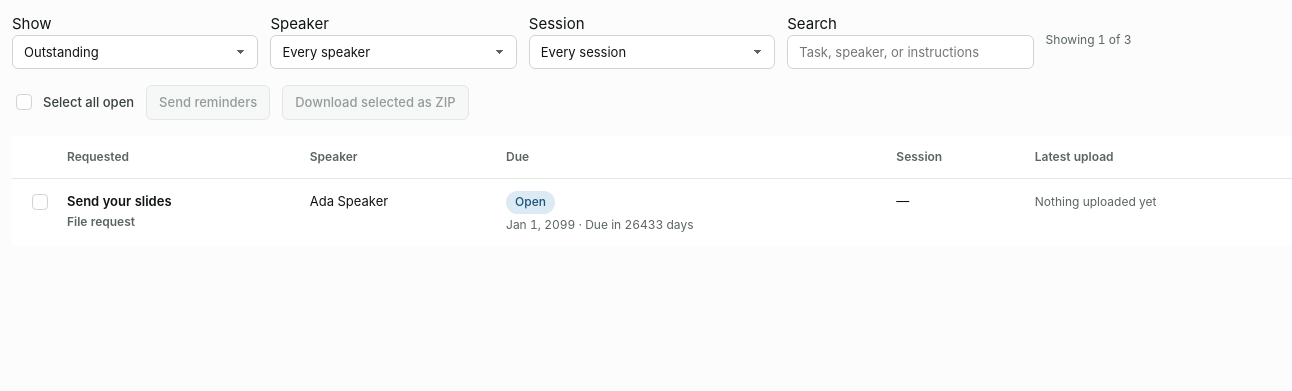
Test: the requested-work tracker › offers a completed deliverable to the ZIP, which is what the ZIP is for
Select "Complete" in the dropdown labelled "Show" at (135, 52), box [12,35,258,69]
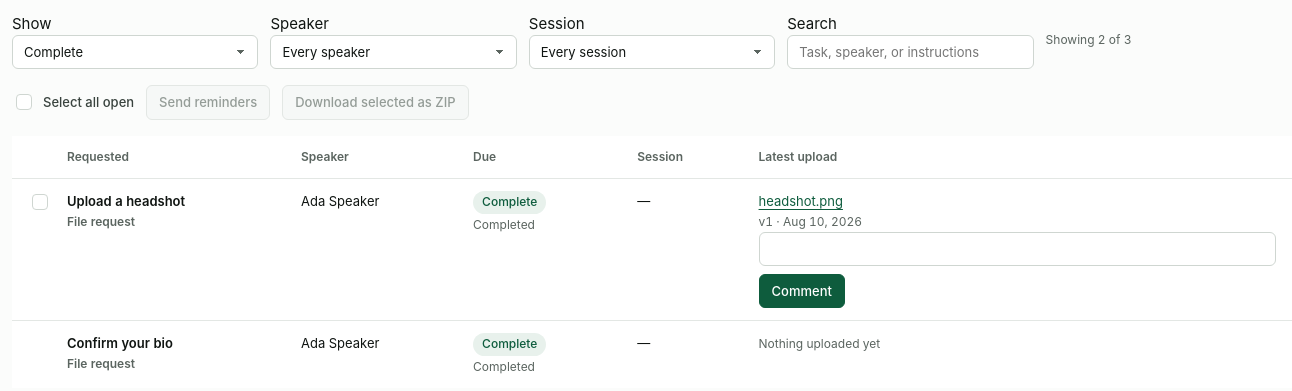
Click the checkbox named "Upload a headshot for Ada Speaker".
click(40, 202)  # box [32,194,48,210]
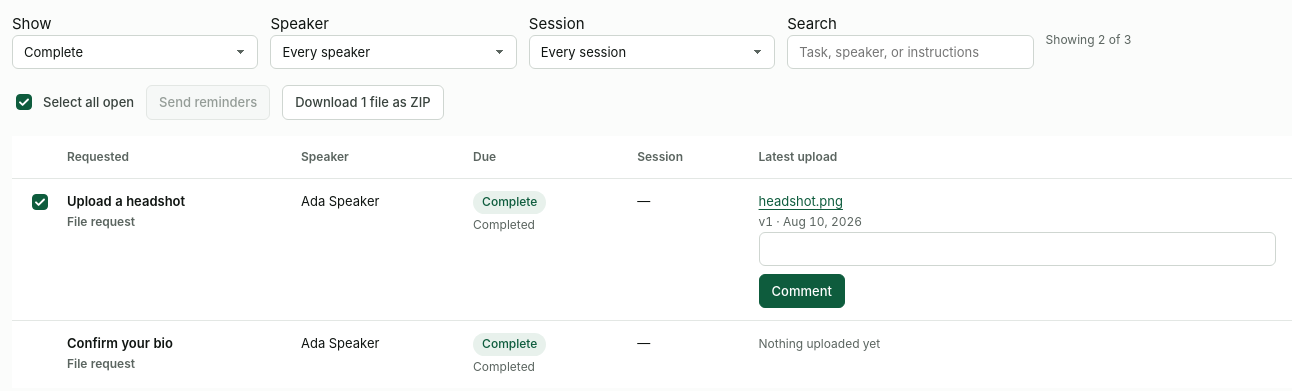
Expected: the button "Download 1 file as ZIP" is enabled, [282,85,444,120]
